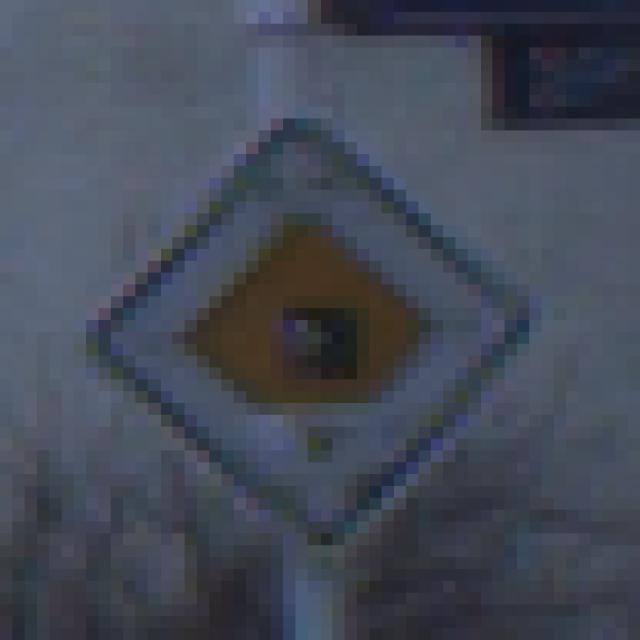Main Road: (63, 72, 580, 582)
